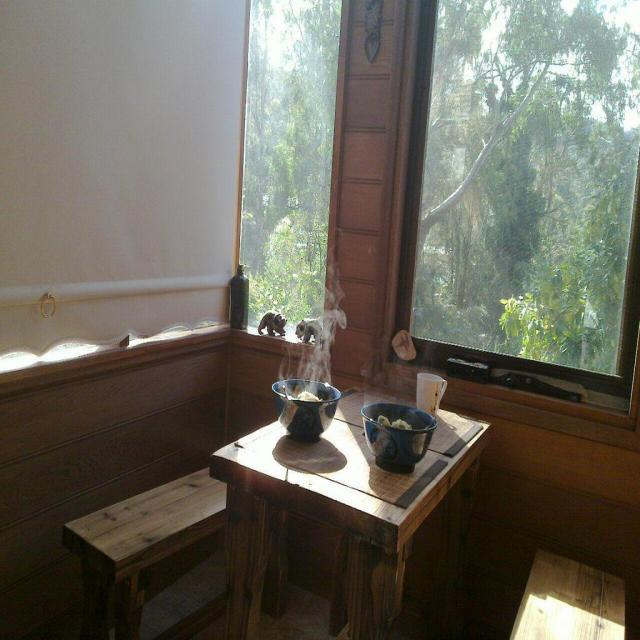desk: (210, 386, 489, 640)
